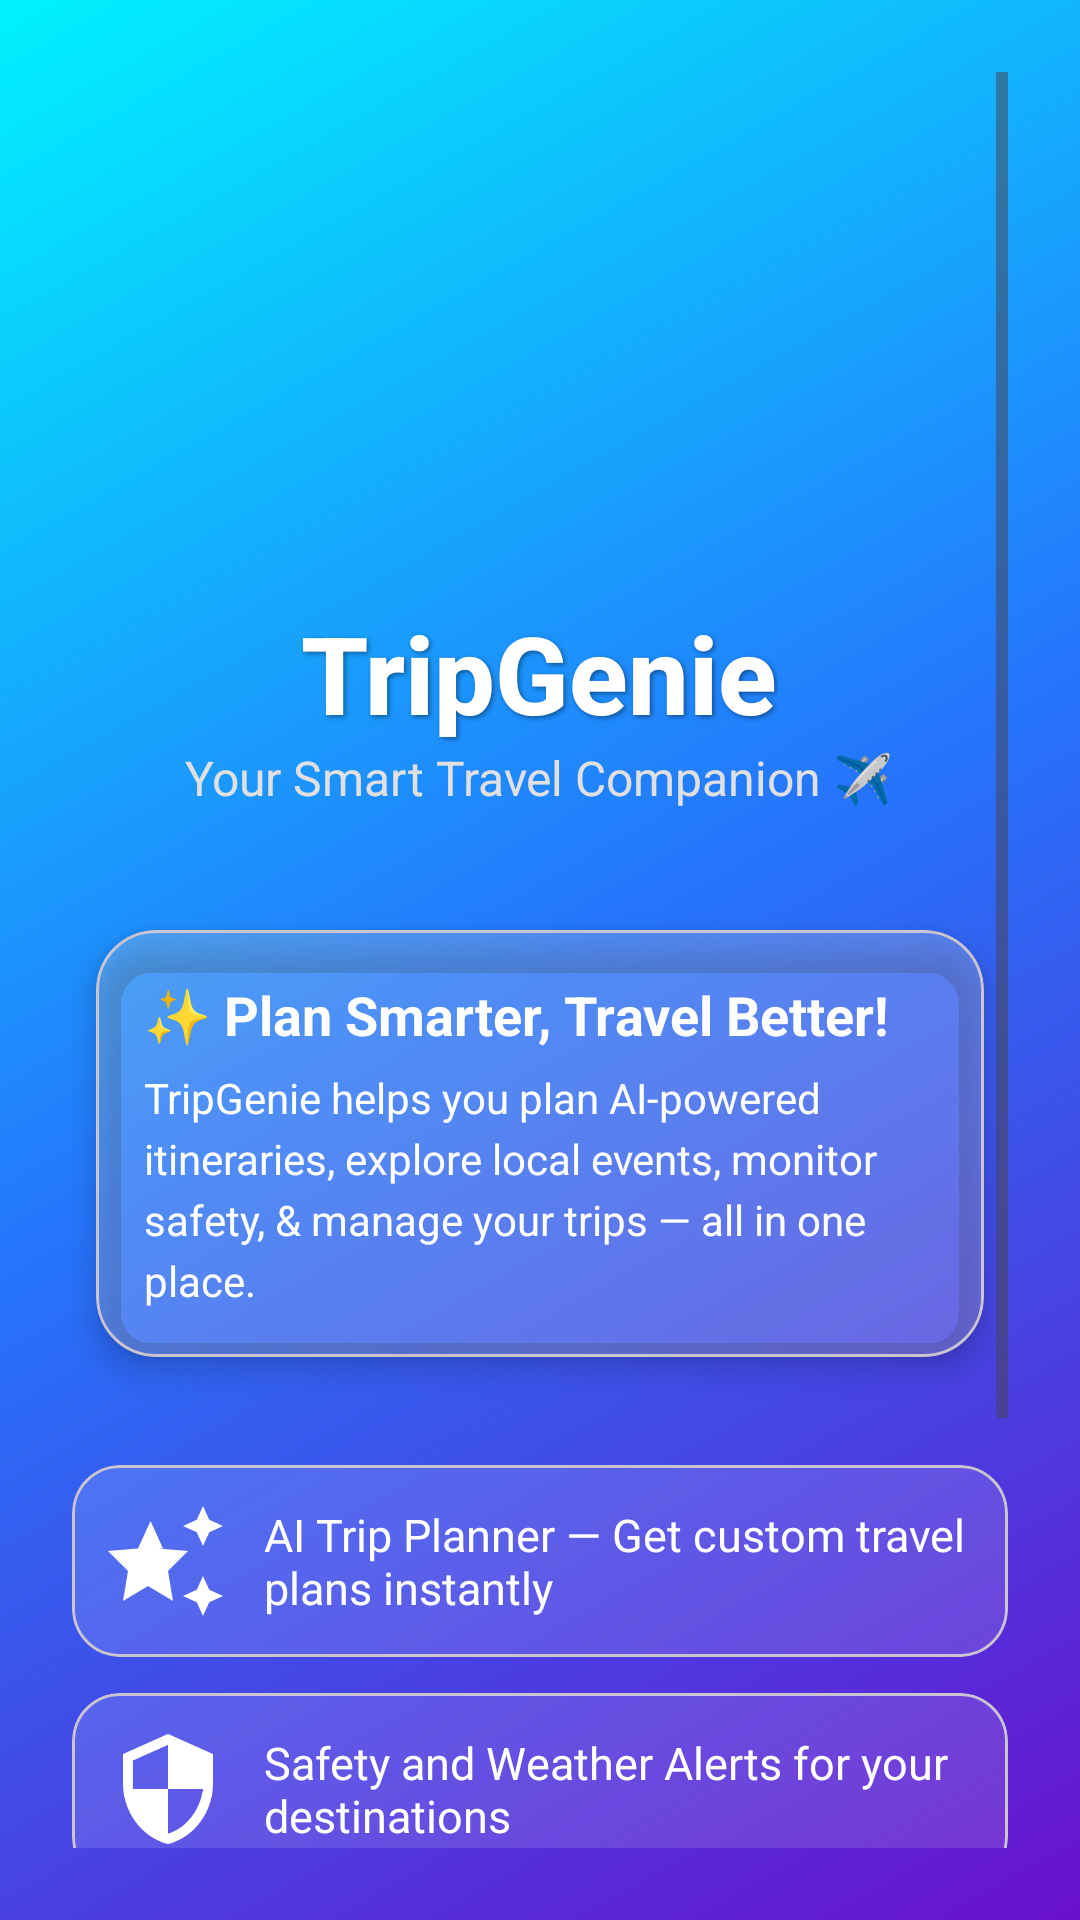

Screen size 1080×1920. Icon name, then its center in pixels as (x,y):
auto awesome: (165,1561)
security: (168,1789)
